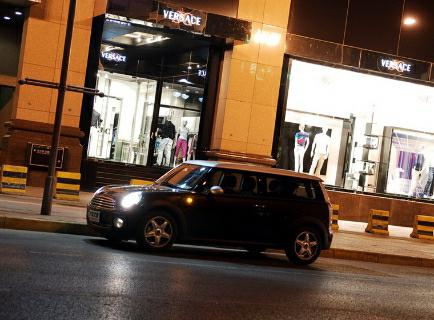MINI CLUBMAN: (86, 167, 340, 262)
